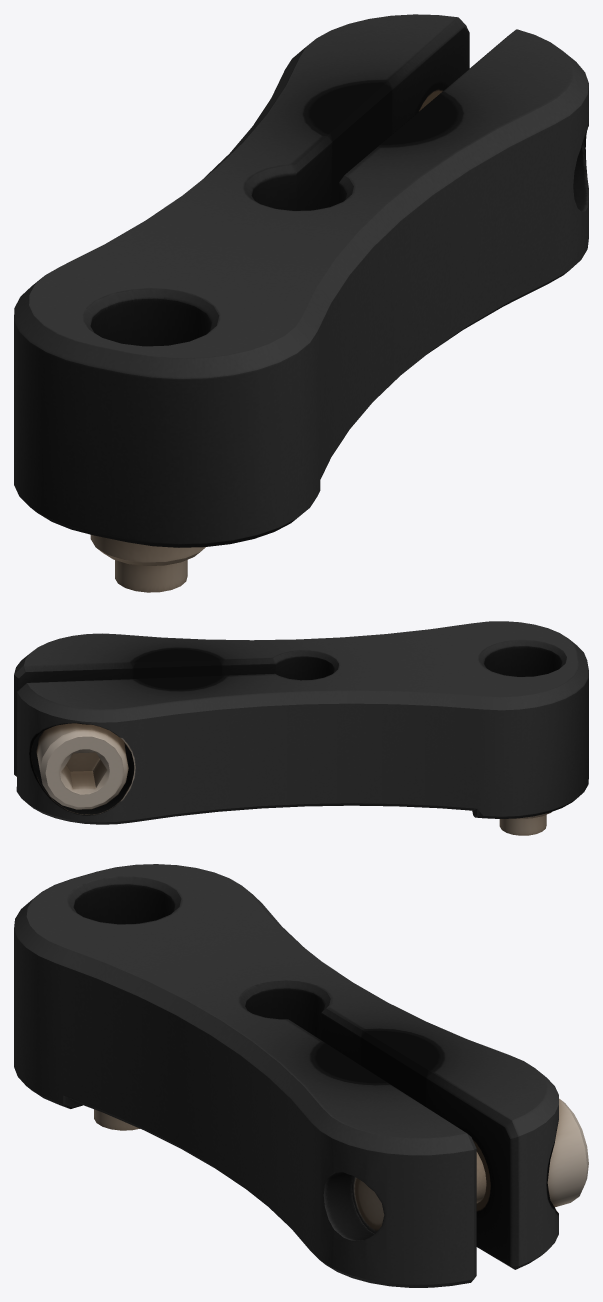
The model's file is PBS_Base.obj.
3 renders of one model, top to bottom at view 1: azimuth 30°, elevation 25°; view 2: azimuth 150°, elevation 25°; view 3: azimuth 270°, elevation 25°, orthographic. The views are drawn at different scales.
Visible parts, largest first — view 1: pCylinder149 group155; view 2: pCylinder149 group155; view 3: pCylinder149 group155.
Boxes of the visible parts, x1,y1,x2,y2 form: pCylinder149 group155: [14, 14, 588, 592]; pCylinder149 group155: [14, 621, 588, 835]; pCylinder149 group155: [14, 864, 588, 1287].
Bounding box in the file's own units: 26.4 × 9.39 × 22.5.
Materials: 1 (1 with a texture image).
